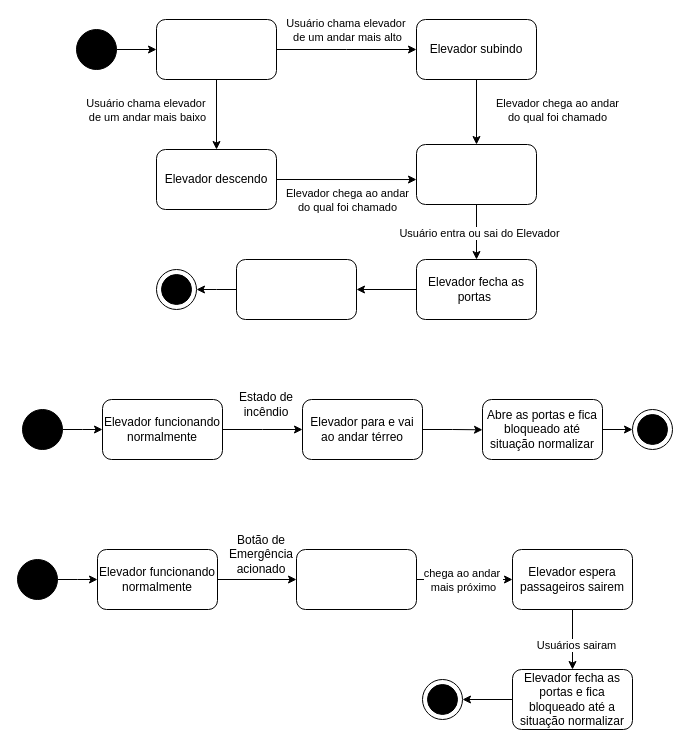
This 690x747 diagram has some shape labels left out. The centre of each missing label's shape, as x and y in pixels:
Elevador abre as portas: (476,174)
Elevador para e vai ao andar mais próximo: (356,579)
Elevador Parado com Portas abertas: (216,49)
Elevador Parado com Portas fechadas: (296,289)
